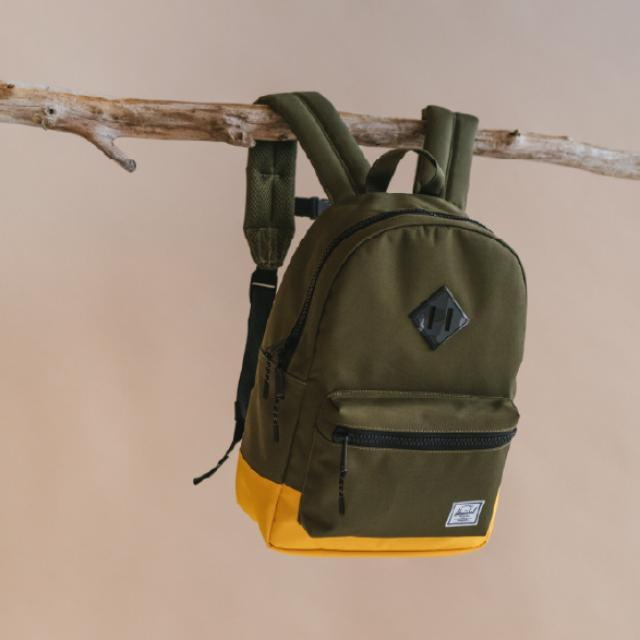Backpacks: (218, 174, 536, 566)
